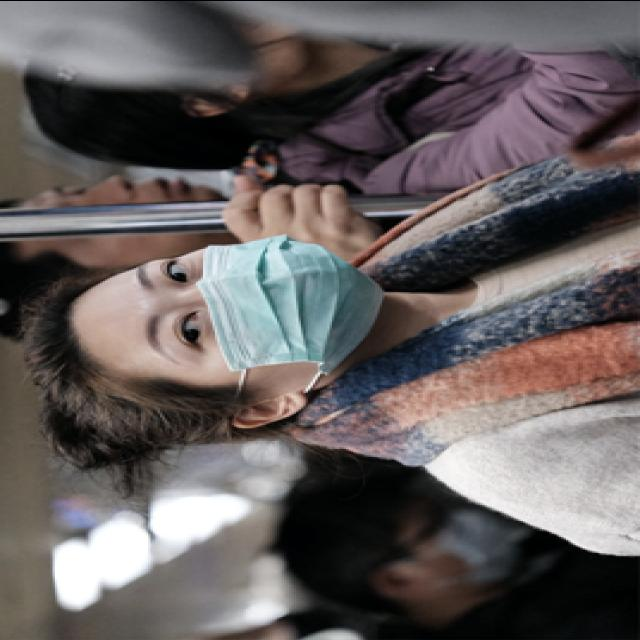mask: (126, 235, 386, 392), (404, 498, 530, 586)
no_mask: (38, 171, 226, 267)
